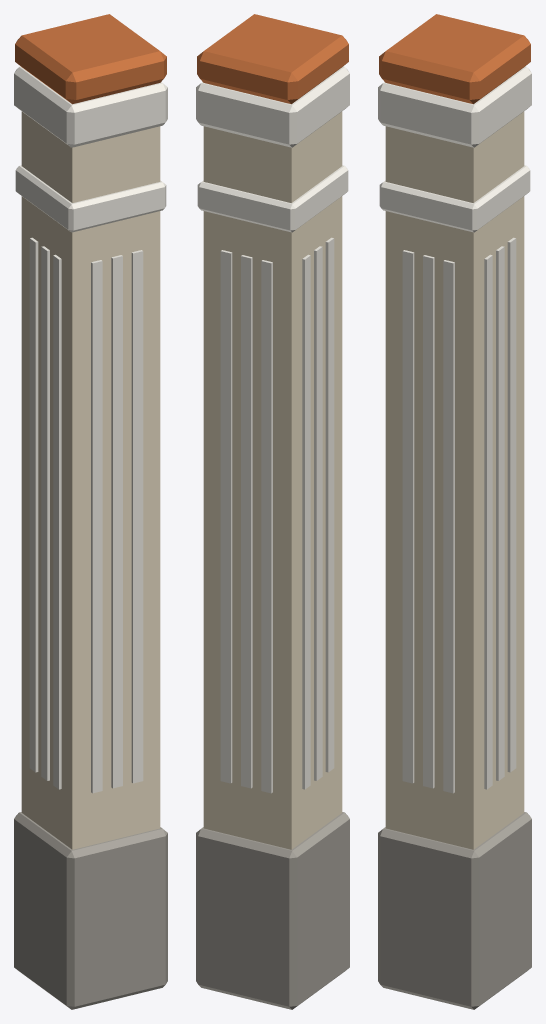
Rendered from pilar_colonial.glb.
3 views of the same model, side by side, from view 1: azimuth 30°, elevation 25°; view 2: azimuth 150°, elevation 25°; view 3: azimuth 330°, elevation 25° (orthographic).
Parts seen in each view (by area): view 1: pilar_colonial; view 2: pilar_colonial; view 3: pilar_colonial.
Part boxes in pixels (x1=…): pilar_colonial: x1=14, y1=14, x2=167, y2=1009; pilar_colonial: x1=196, y1=14, x2=349, y2=1009; pilar_colonial: x1=378, y1=14, x2=531, y2=1009.
Bounding box in the file's own units: 0.3 × 2.65 × 0.3.
